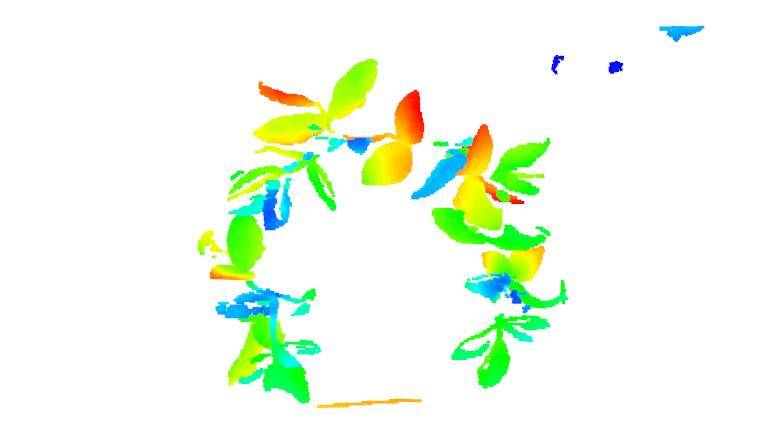mungbean: (348, 86, 552, 229), (430, 203, 570, 391), (230, 57, 380, 232), (197, 211, 321, 401)
